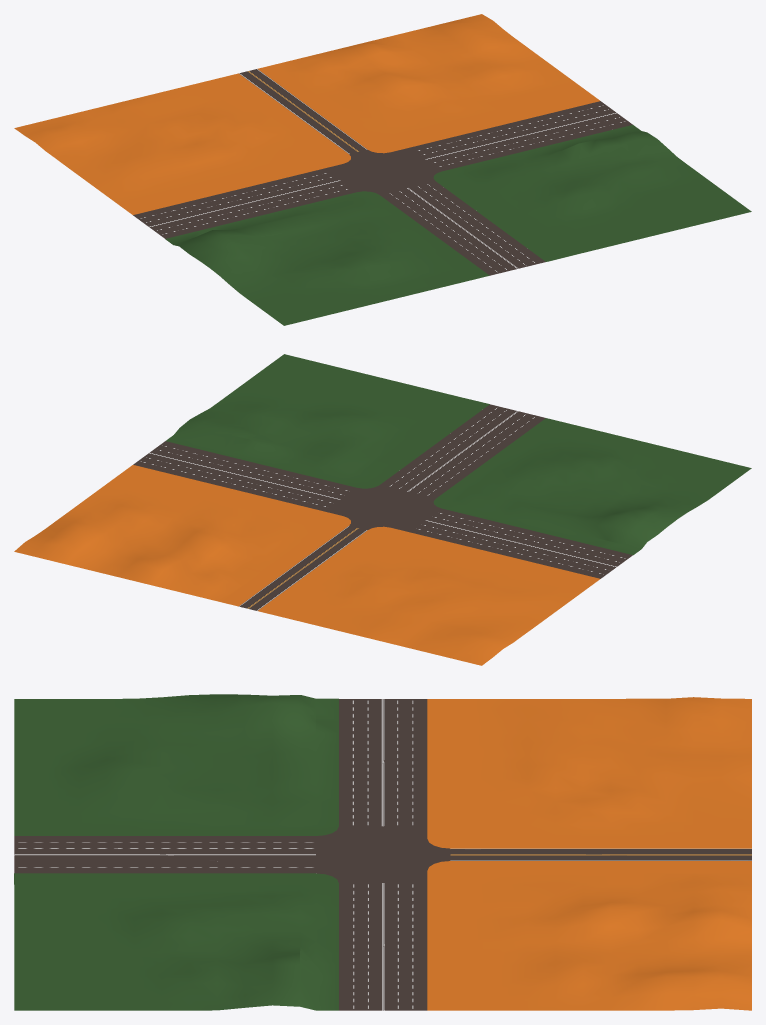
Rendered from TileHighwayDesert1.fbx.
The picture shows the model from 3 angles, top to bottom: view 1: azimuth 30°, elevation 25°; view 2: azimuth 150°, elevation 25°; view 3: azimuth 270°, elevation 25°; orthographic projection. The views are drawn at different scales.
Parts seen in each view (by area): view 1: Plane.051, Plane.050, Road.007, Road.009, Road.008, Road1.003, Road.010; view 2: Plane.051, Plane.050, Road.007, Road.009, Road.008, Road1.003, Road.010; view 3: Plane.051, Plane.050, Road.008, Road.009, Road.007, Road1.003, Road.010.
Part boxes in pixels (box(x1,y1,x2,y2)): Plane.051: box(14, 14, 599, 214); Plane.050: box(165, 125, 751, 325); Road.007: box(133, 168, 355, 238); Road.009: box(409, 101, 632, 171); Road.008: box(380, 181, 545, 275); Road1.003: box(324, 148, 441, 194); Road.010: box(239, 69, 367, 154); Plane.051: box(14, 465, 599, 665); Plane.050: box(166, 354, 751, 555); Road.007: box(410, 508, 632, 578); Road.009: box(133, 441, 356, 511); Road.008: box(380, 404, 545, 498); Road1.003: box(324, 485, 441, 532); Road.010: box(239, 525, 367, 610); Plane.051: box(427, 697, 751, 1010); Plane.050: box(14, 694, 338, 1010); Road.008: box(14, 836, 315, 873); Road.009: box(339, 883, 427, 1010); Road.007: box(339, 699, 427, 826); Road1.003: box(316, 826, 450, 882); Road.010: box(450, 848, 751, 860).
Bounding box in the file's own units: 20020 × 543 × 20010.
